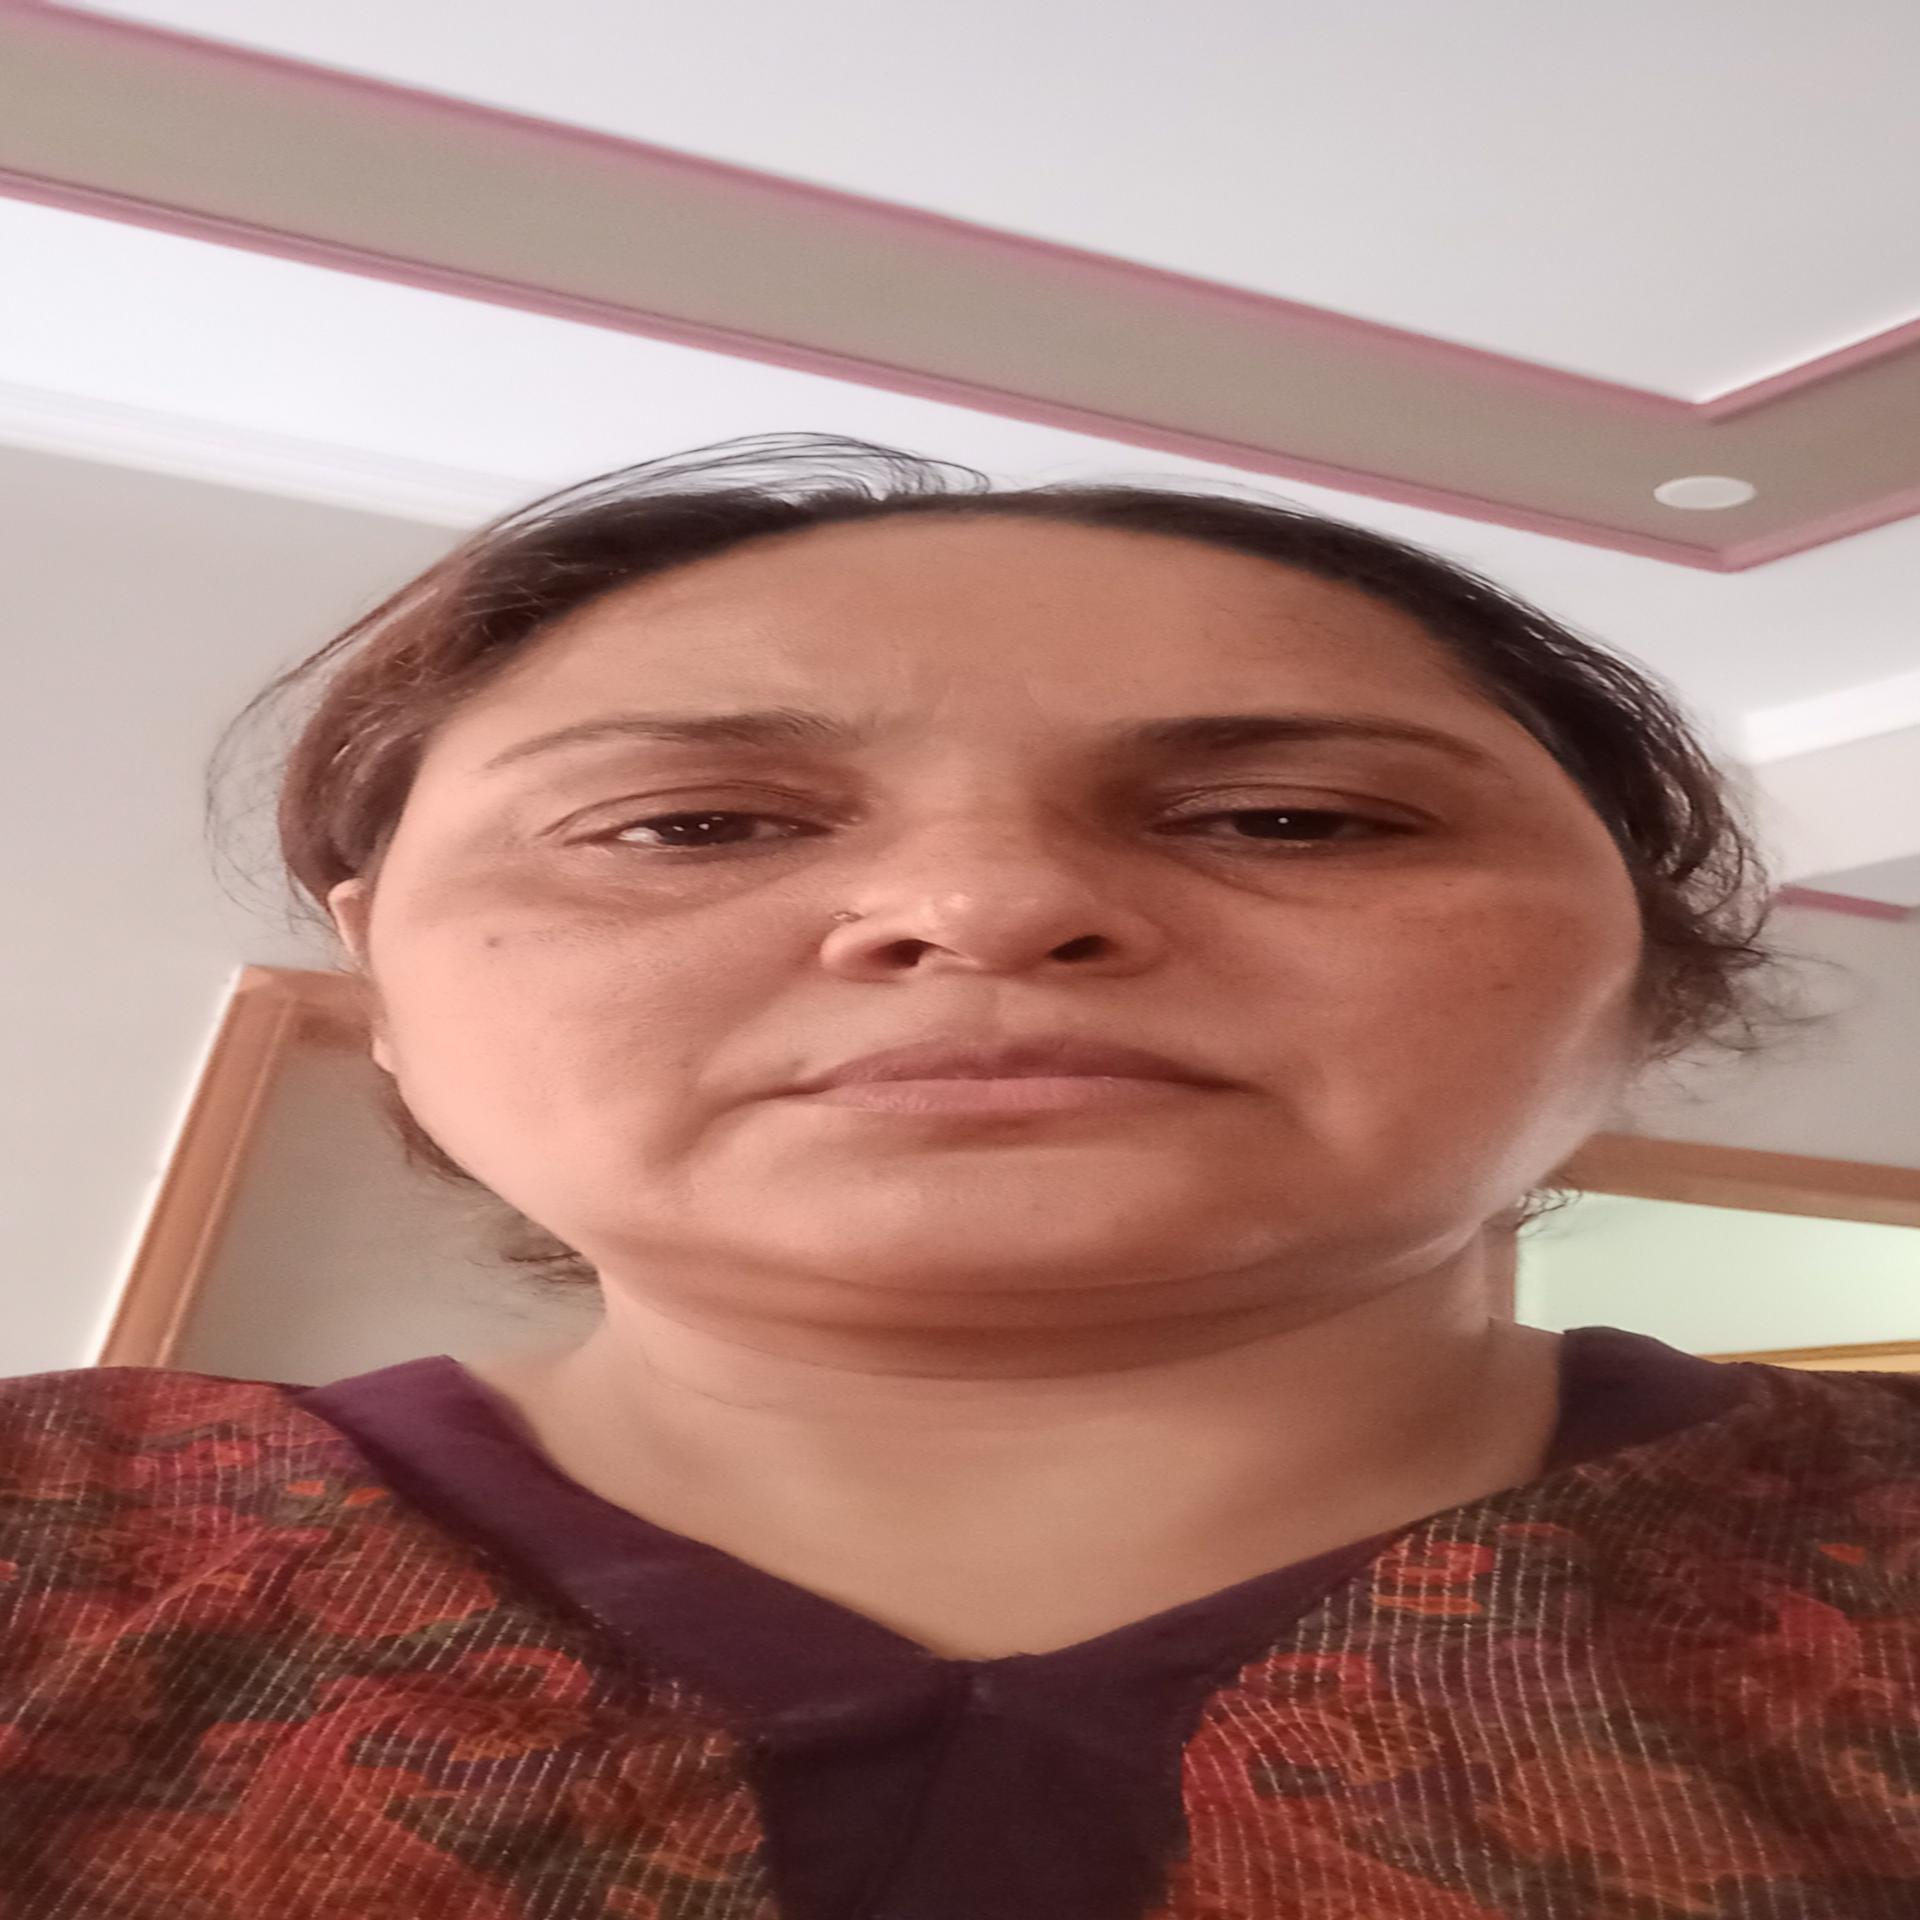Acne: (1480, 978, 1519, 995)
Wrinkles: (673, 976, 802, 1106), (652, 867, 805, 921), (659, 1097, 740, 1187), (1169, 855, 1280, 900), (1269, 1085, 1340, 1155), (1185, 960, 1268, 1020), (1285, 1039, 1335, 1108), (1016, 679, 1071, 738), (914, 677, 960, 733)
